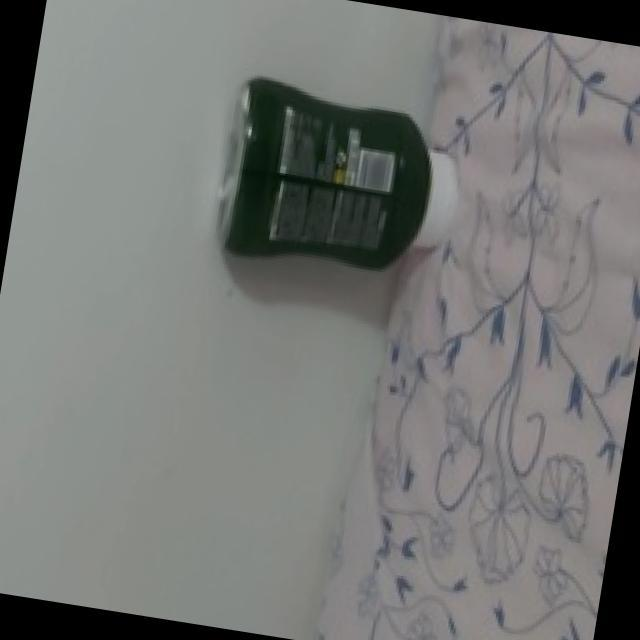good: (188, 64, 476, 298)
